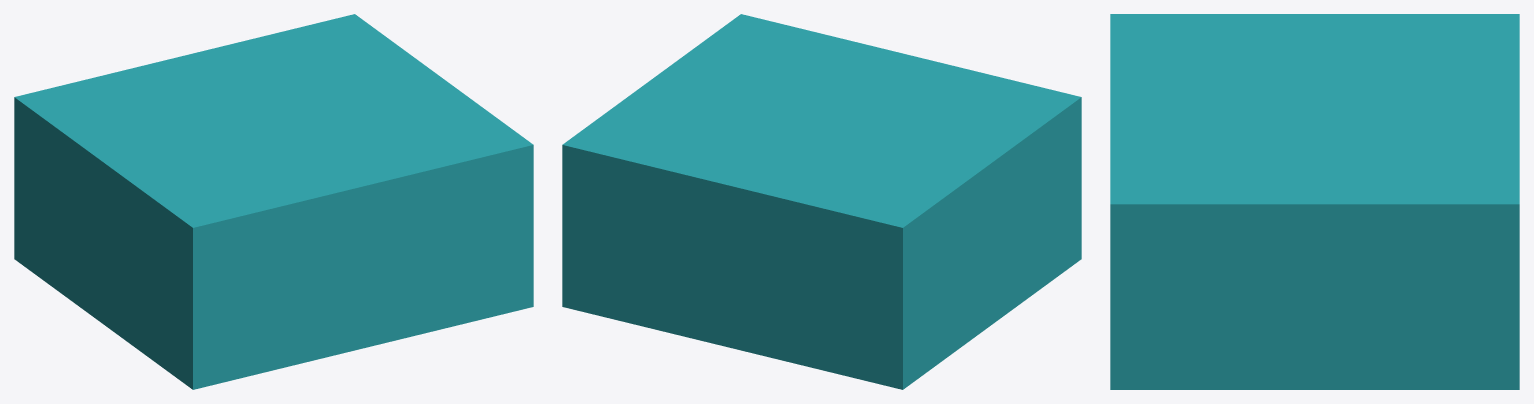
File: storage-cabinet.glb
The picture shows the model from 3 angles, left to right: view 1: azimuth 30°, elevation 25°; view 2: azimuth 150°, elevation 25°; view 3: azimuth 270°, elevation 25°; orthographic projection. The views are drawn at different scales.
Visible parts, largest first — view 1: world; view 2: world; view 3: world.
Part boxes in pixels (x1,y1,x2,y2): world: (14, 14, 533, 389); world: (562, 14, 1081, 389); world: (1110, 14, 1519, 389).
Bounding box in the file's own units: 1.1 × 0.5225 × 1.
